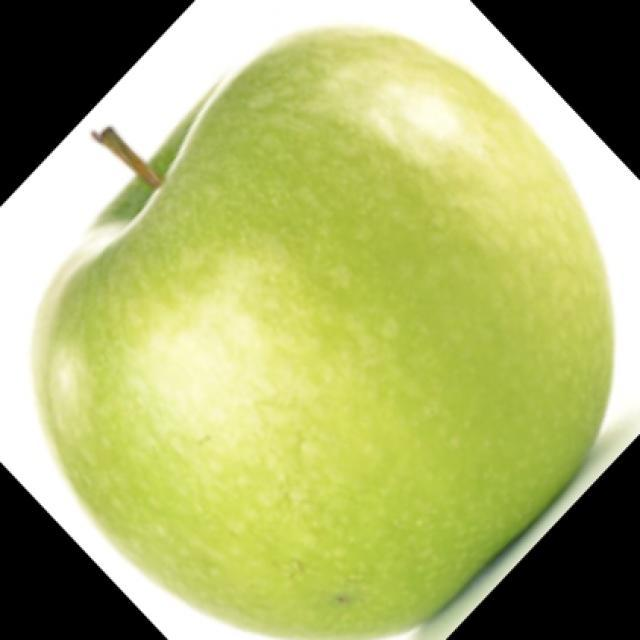Fresh Apple: (18, 35, 617, 632)
